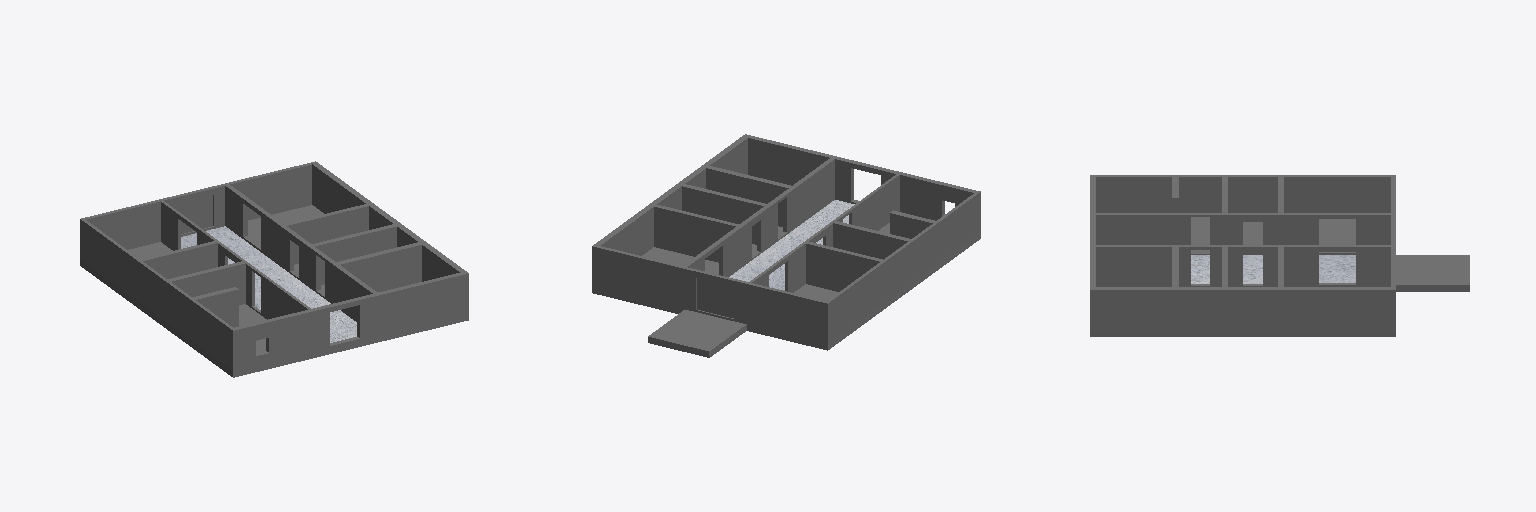
3 renders of one model, left to right at view 1: azimuth 30°, elevation 25°; view 2: azimuth 150°, elevation 25°; view 3: azimuth 270°, elevation 25°, orthographic.
Parts seen in each view (by area): view 1: Recinto group1; view 2: Recinto group1; view 3: Recinto group1.
Part boxes in pixels (bbox=[...]): Recinto group1: bbox=[80, 161, 468, 377]; Recinto group1: bbox=[592, 134, 980, 357]; Recinto group1: bbox=[1090, 175, 1469, 336].
Size of the model in its own units: 864 by 164 by 1207.
7 materials, 1 textured.